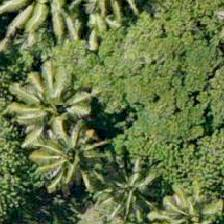Kelapa_Sawit: (23, 111, 113, 201), (6, 57, 96, 147), (92, 149, 183, 223), (144, 170, 223, 223), (0, 0, 84, 47)
